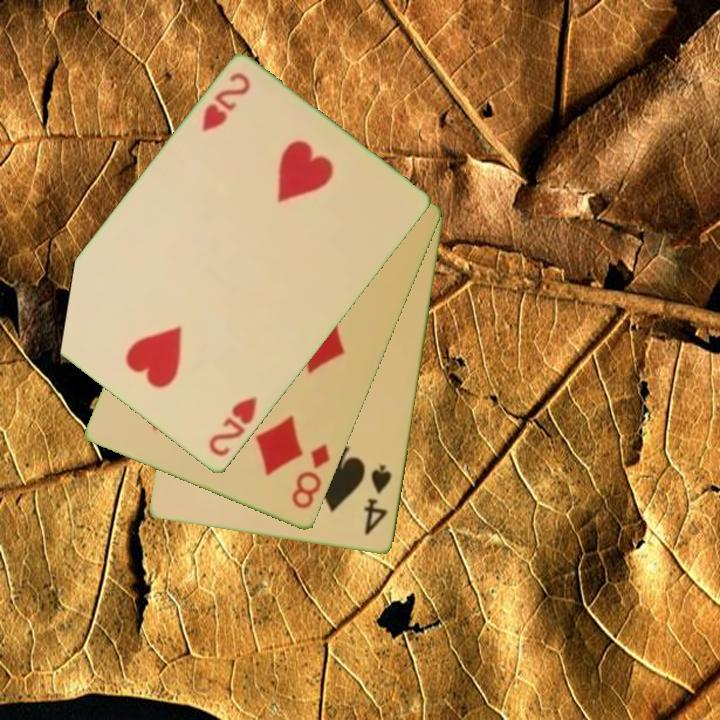2h: (205, 393, 261, 460), (198, 69, 254, 135)
4s: (361, 461, 395, 539)
8d: (288, 440, 333, 513)
